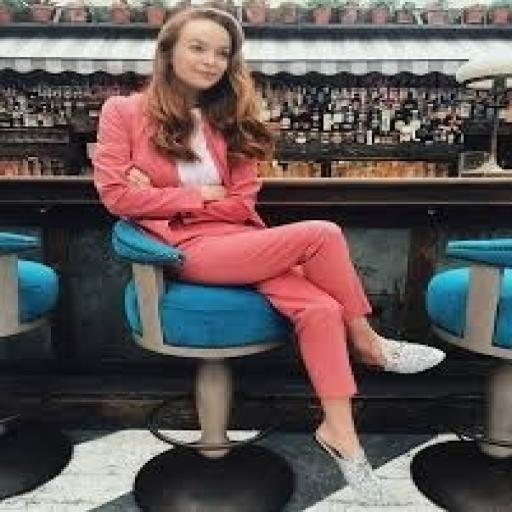sitting: (86, 4, 446, 504)
